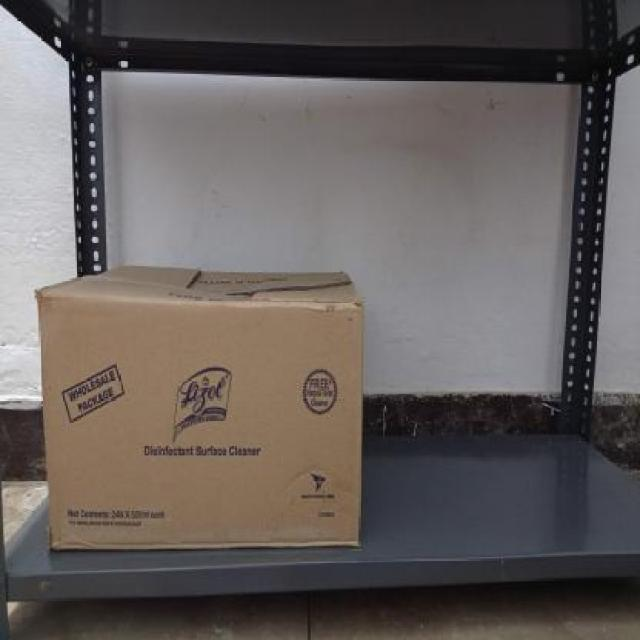box: (35, 289, 363, 543)
